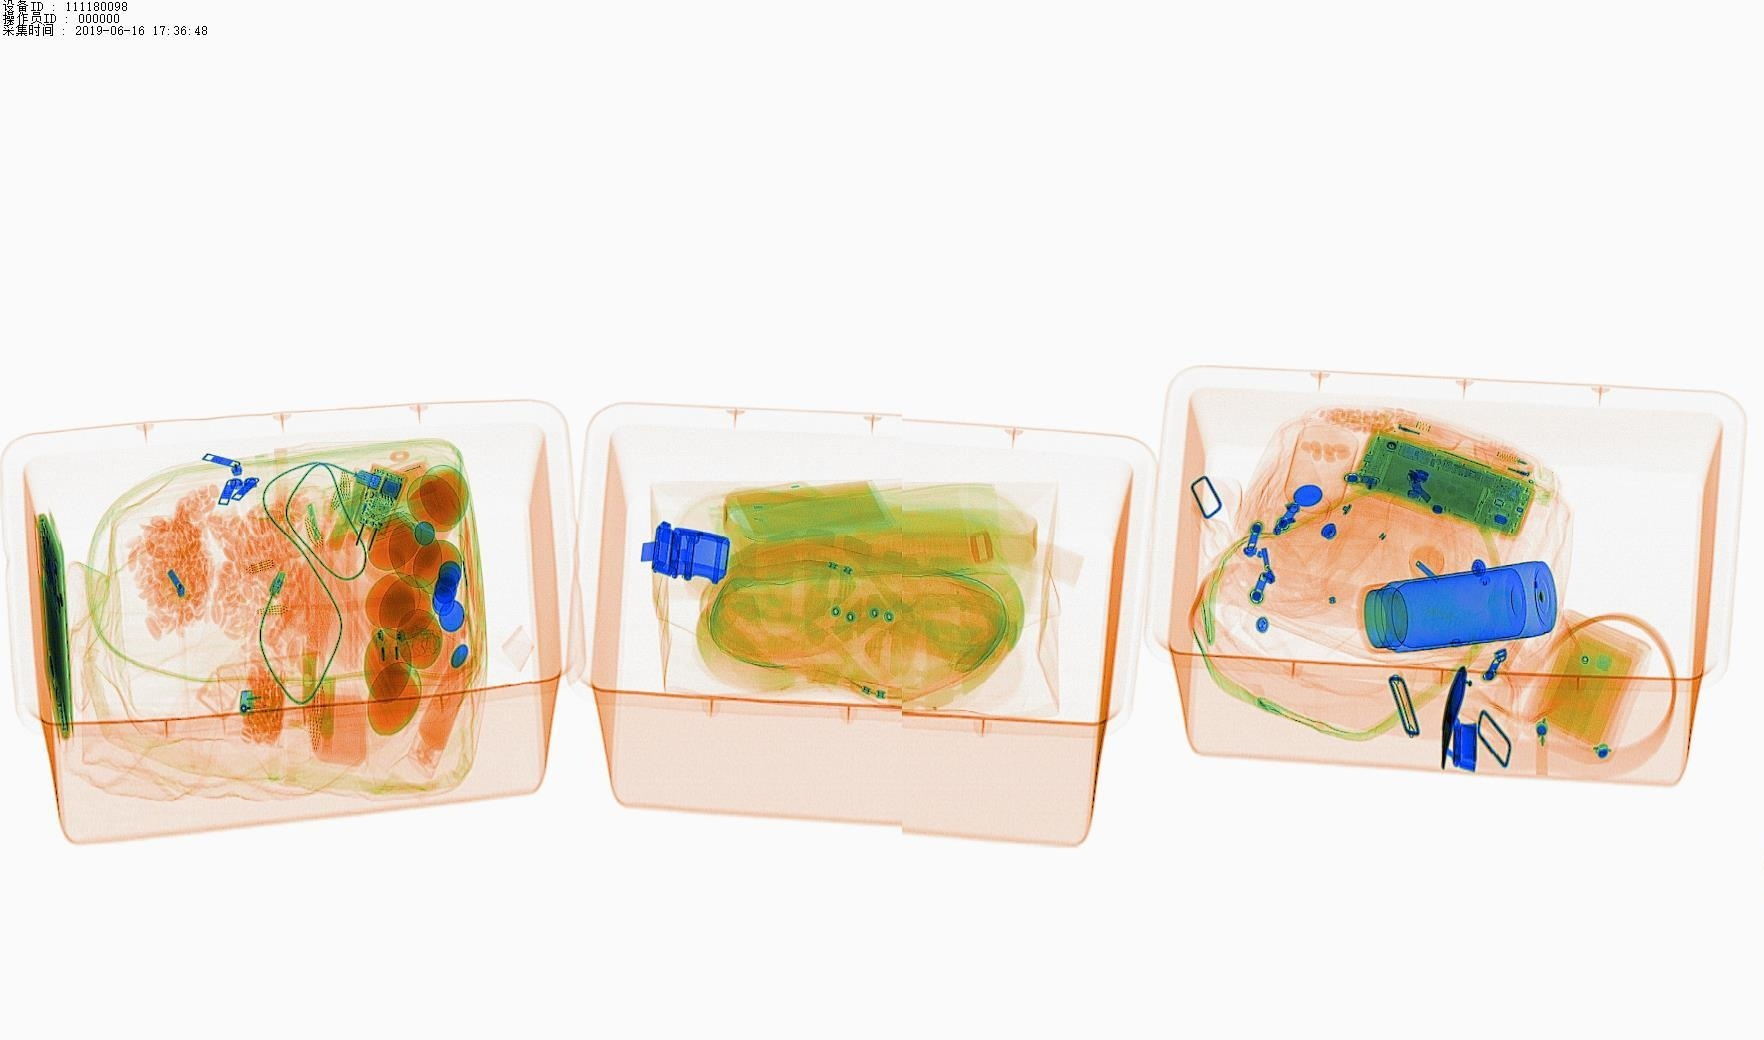NonmetallicFire: (231, 671, 340, 723)
